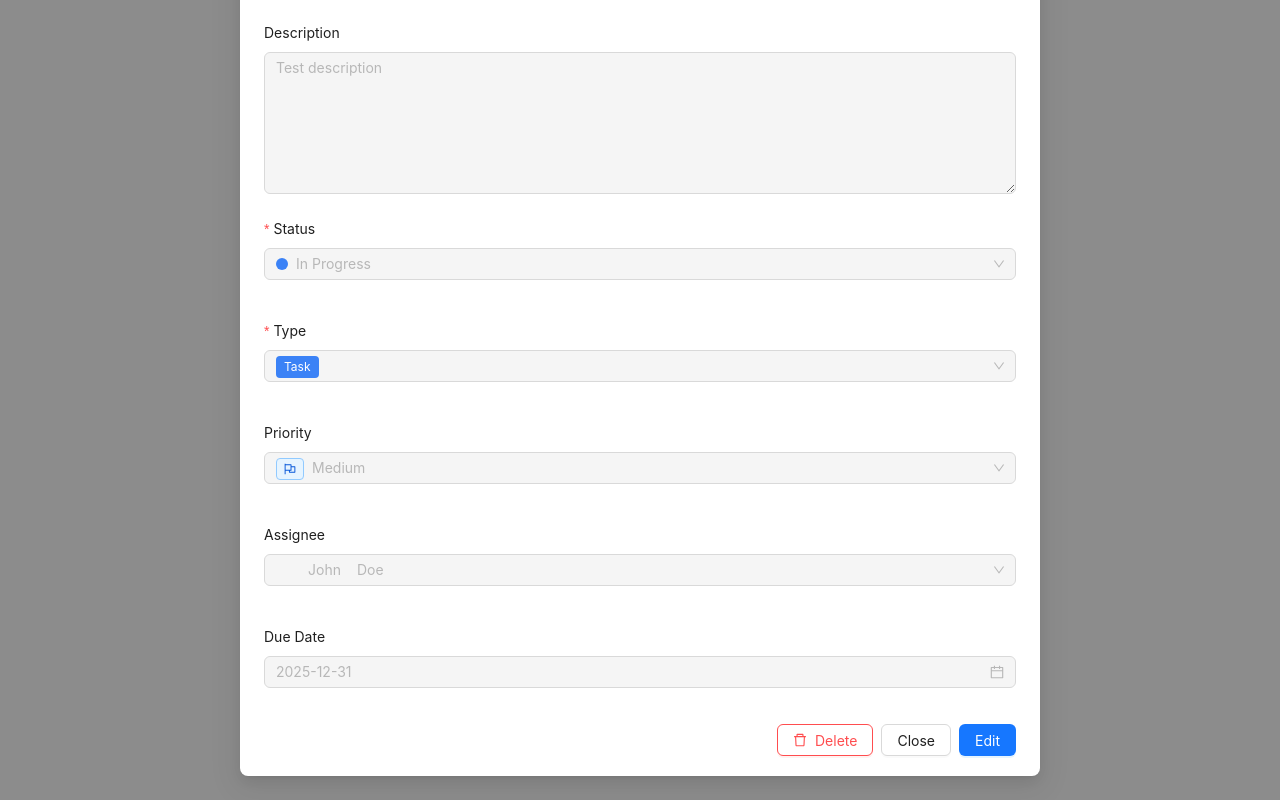
Test: TaskModal › resets form when cancel is clicked
(page scrolled)
Click the button "Edit" at (988, 740), box x1=959 y1=724 x2=1016 y2=756
(page scrolled)
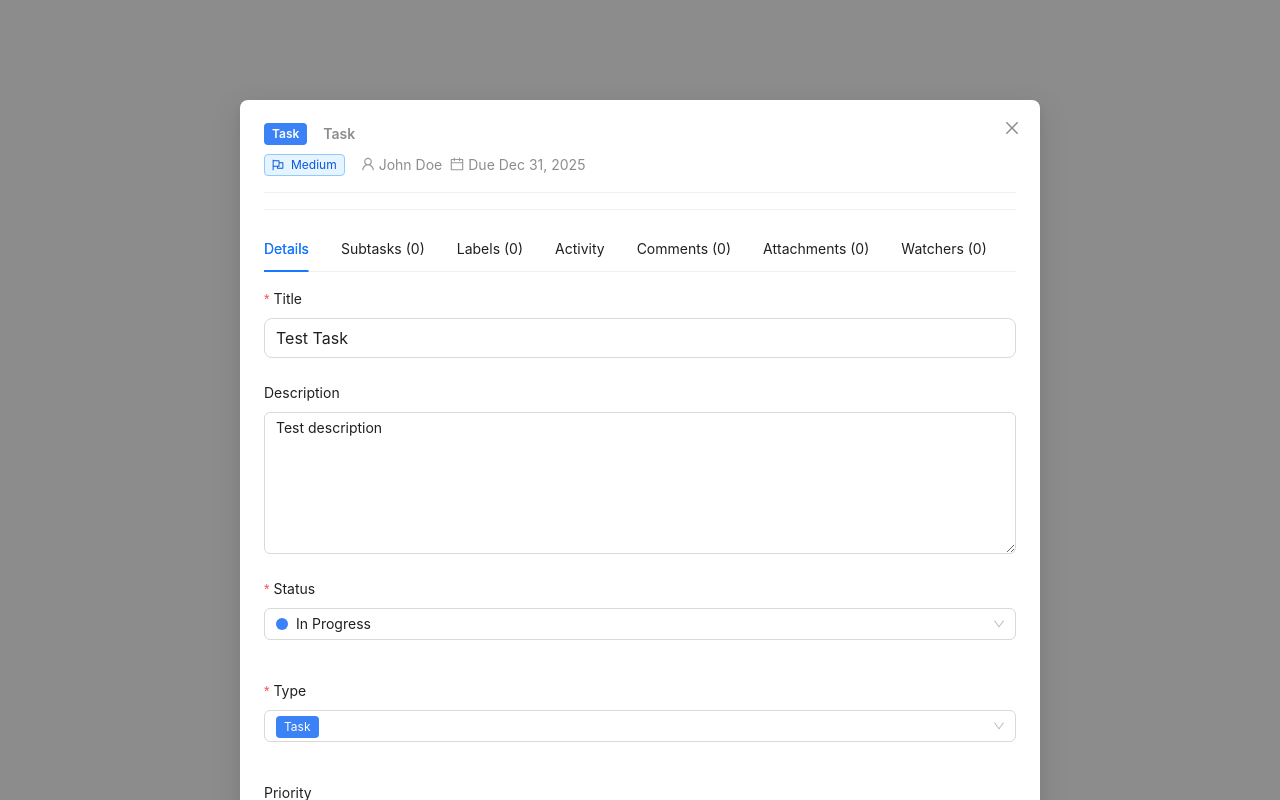
Replace the text in the field showing "Test Task" with "Changed Title" at (640, 338), box x1=264 y1=318 x2=1016 y2=358
(page scrolled)
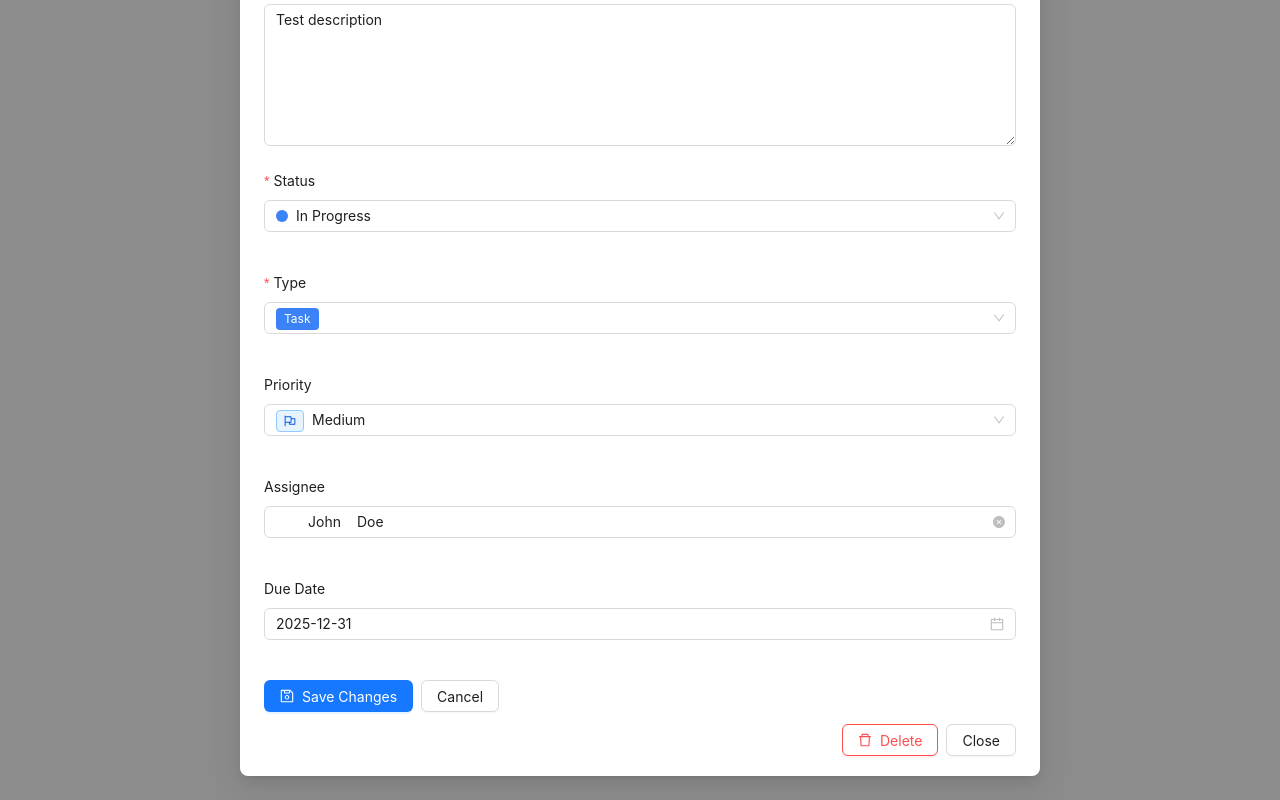
Click the button "Cancel" at (460, 696), box x1=421 y1=680 x2=499 y2=712
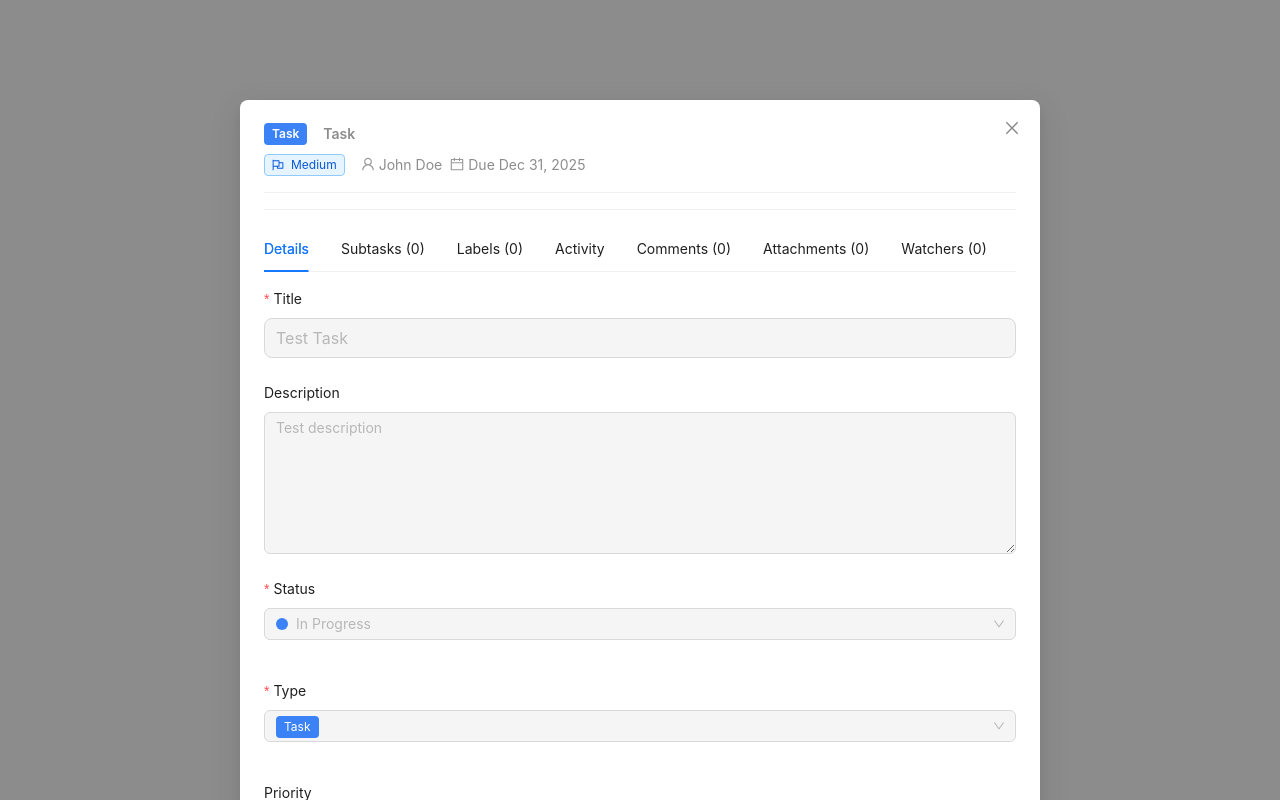
Check: the field showing "Test Task" is shown, box x1=264 y1=318 x2=1016 y2=358
